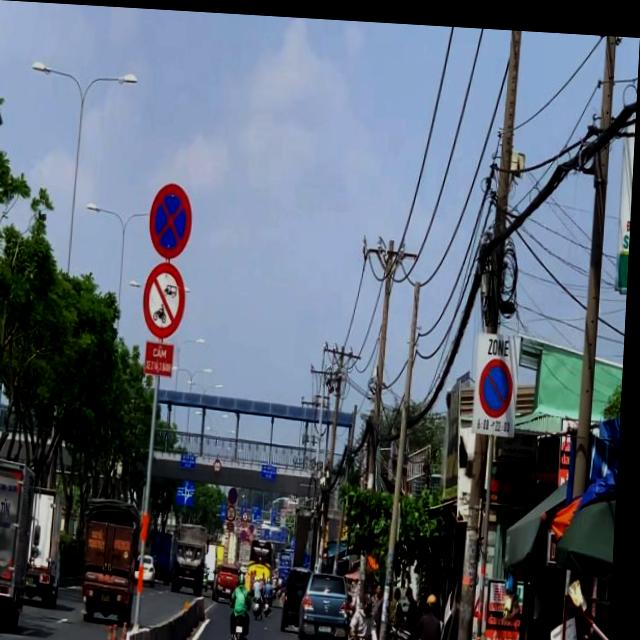Cam do xe: (482, 352, 518, 412)
Cam dung xe va do xe: (150, 180, 195, 258), (233, 484, 243, 501)
Han che chieu cao: (218, 457, 227, 471)
